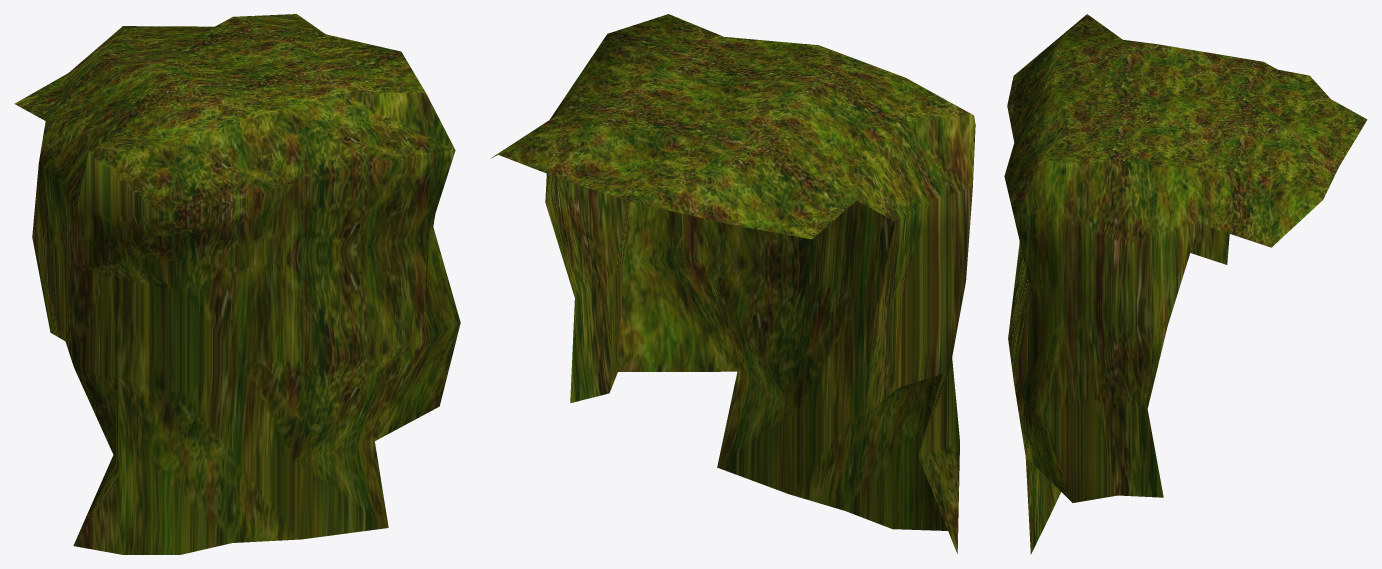
File: TROLLHOLE02_RM_PSURF107.fbx
3 renders of one model, left to right at view 1: azimuth 30°, elevation 25°; view 2: azimuth 150°, elevation 25°; view 3: azimuth 270°, elevation 25°, orthographic. The views are drawn at different scales.
Visible parts, largest first — view 1: TROLLHOLE02_RM_PSURF107; view 2: TROLLHOLE02_RM_PSURF107; view 3: TROLLHOLE02_RM_PSURF107.
Part boxes in pixels (x1,y1,x2,y2): TROLLHOLE02_RM_PSURF107: (14, 14, 460, 554); TROLLHOLE02_RM_PSURF107: (490, 14, 975, 553); TROLLHOLE02_RM_PSURF107: (1004, 14, 1367, 554).
Size of the model in its own units: 73315 by 82764 by 62616.
1 material, 1 textured.
